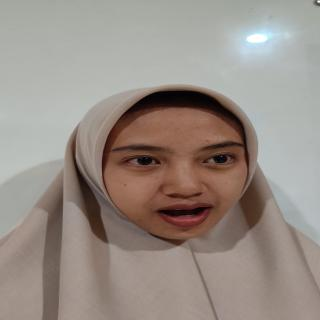Takut: (98, 96, 260, 249)
